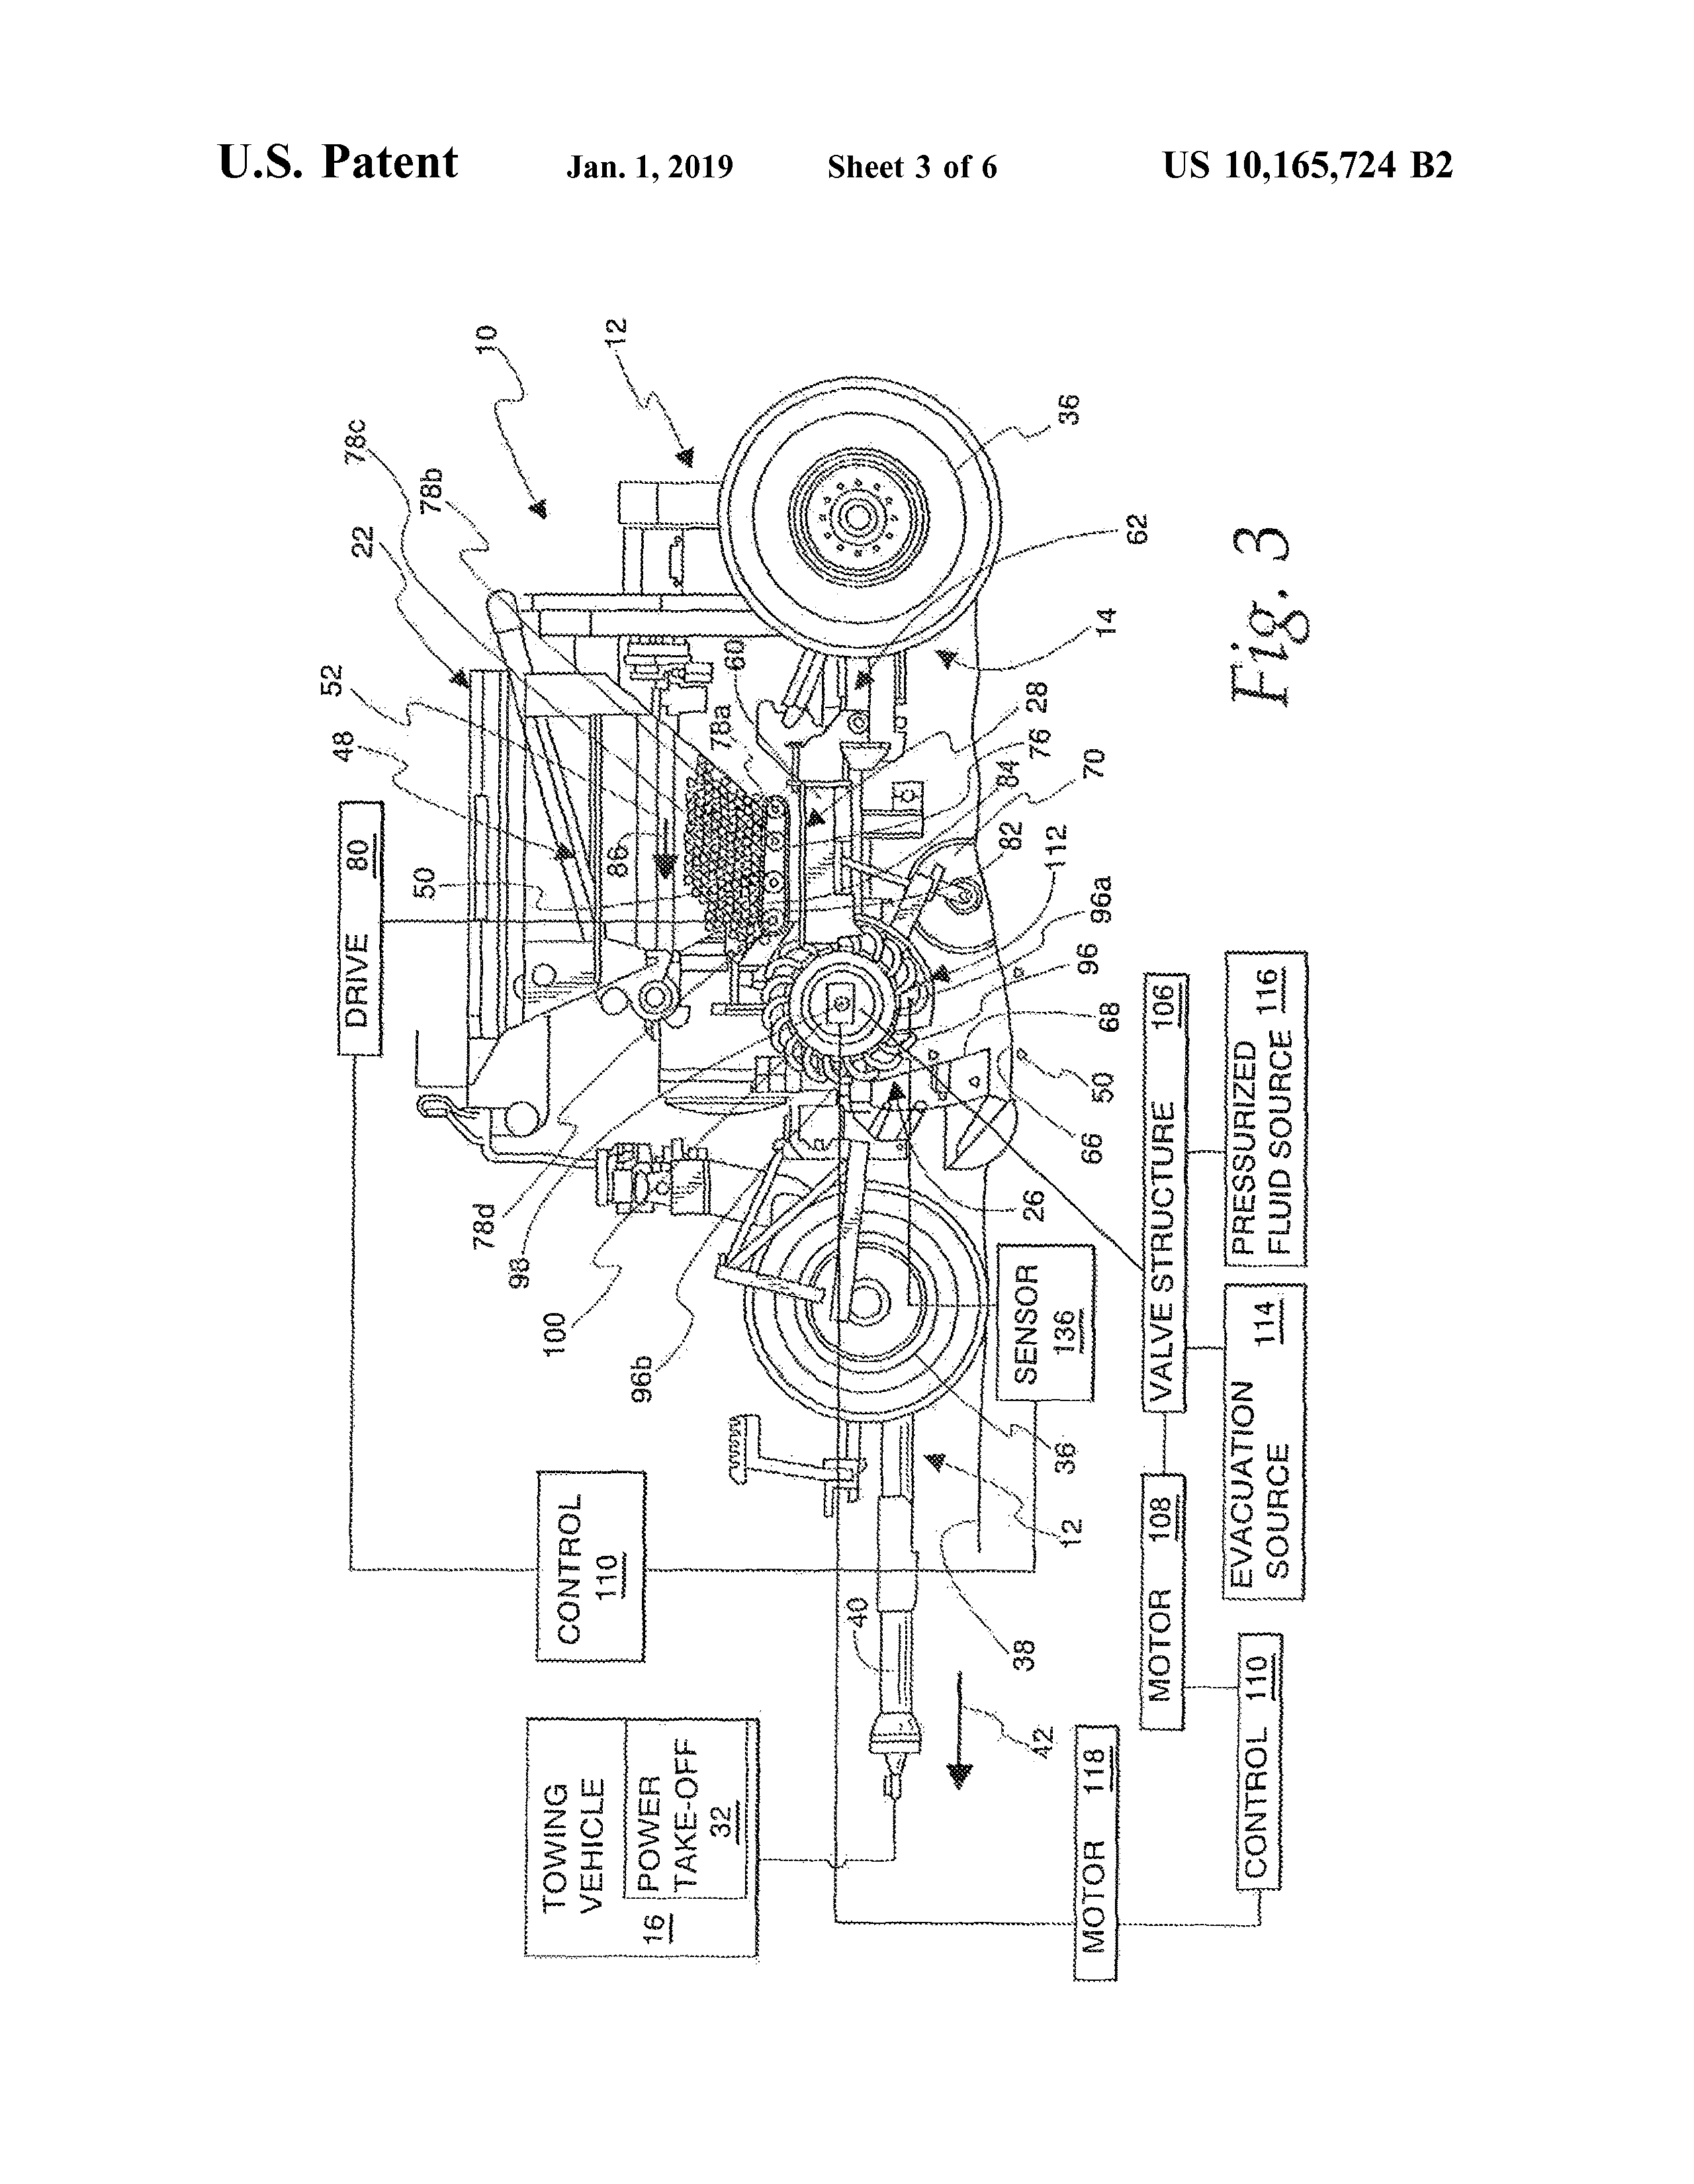patent image: (284, 305, 1378, 2037)
